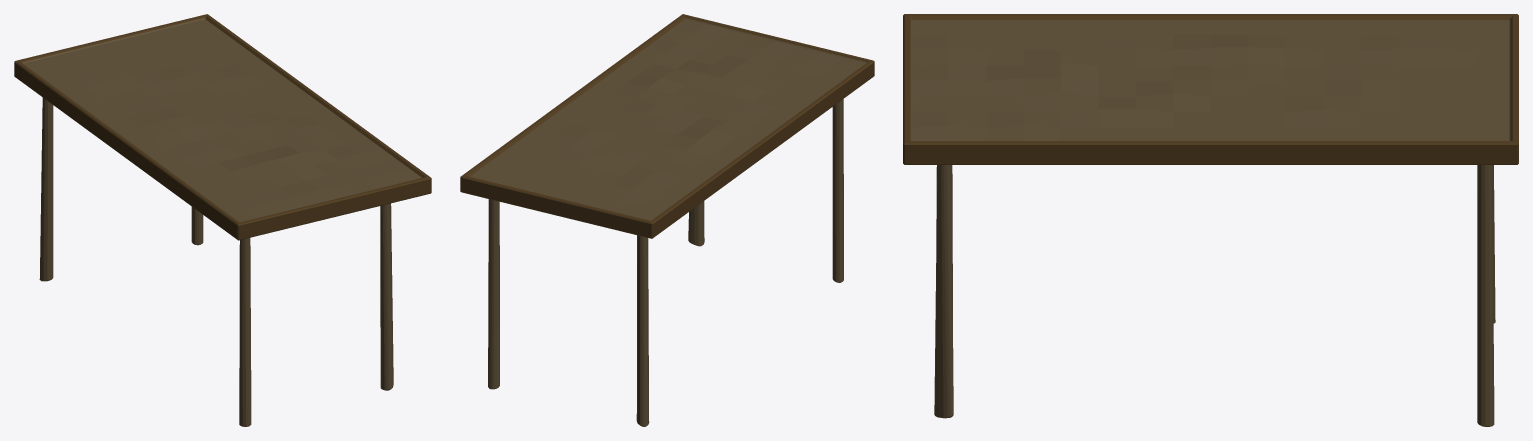
The model's file is Table.fbx.
3 renders of one model, left to right at view 1: azimuth 30°, elevation 25°; view 2: azimuth 150°, elevation 25°; view 3: azimuth 270°, elevation 25°, orthographic. The views are drawn at different scales.
Parts seen in each view (by area): view 1: Cube; view 2: Cube; view 3: Cube.
Part boxes in pixels (x1,y1,x2,y2): Cube: (14,14,431,426); Cube: (460,14,874,426); Cube: (903,14,1518,426).
Bounding box in the file's own units: 200 × 214 × 400.
